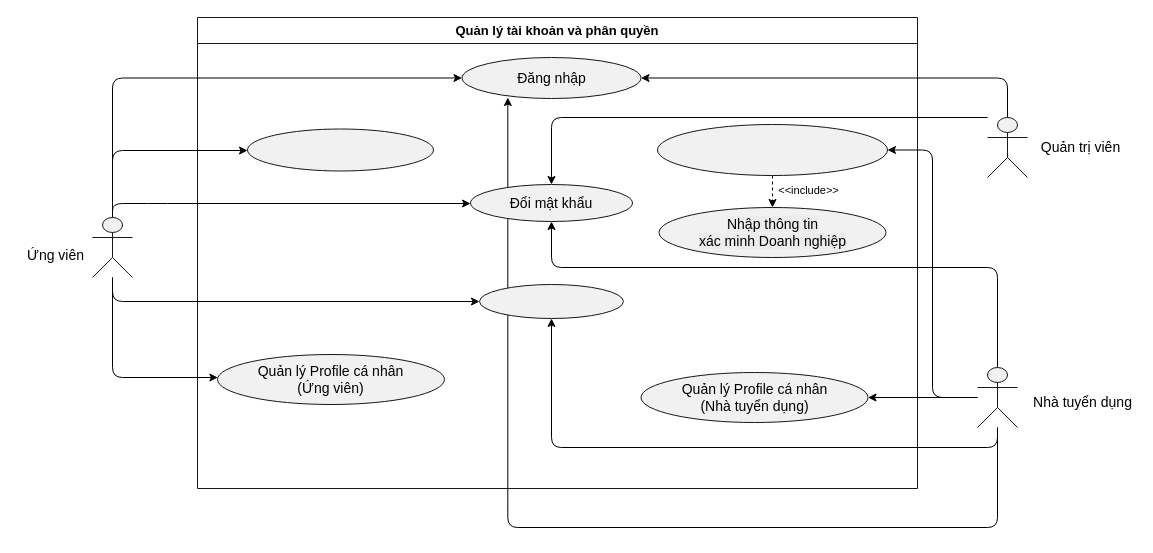
The diagram is 1153 pixels wide and 553 high, and some of its shapes have lost their labels. Here are the shapes that lost their labels. From the top down, the centre of each, then its label:
the point at 340,149: Đăng ký Ứng viên
the point at 772,150: Đăng ký Nhà tuyển dụng
the point at 551,301: Đăng xuất
